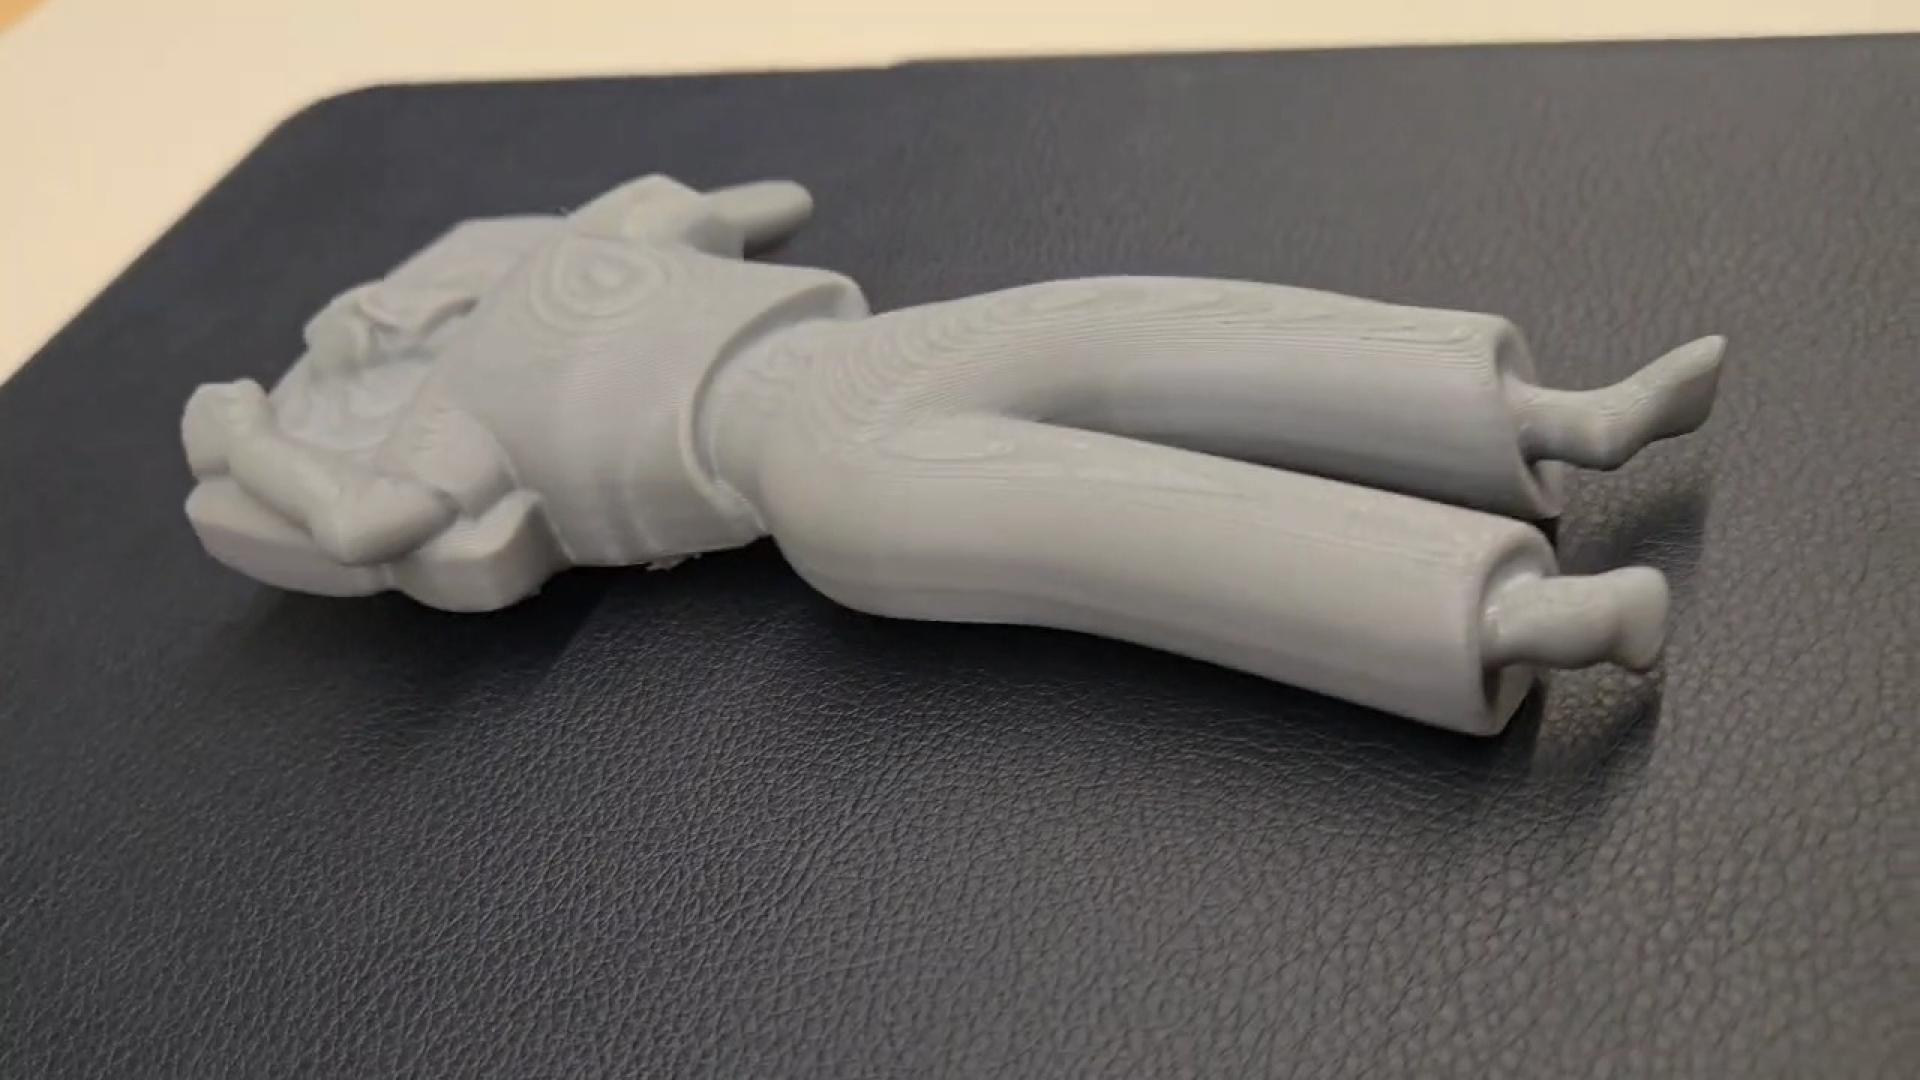Bad-style: (186, 166, 1733, 748)
